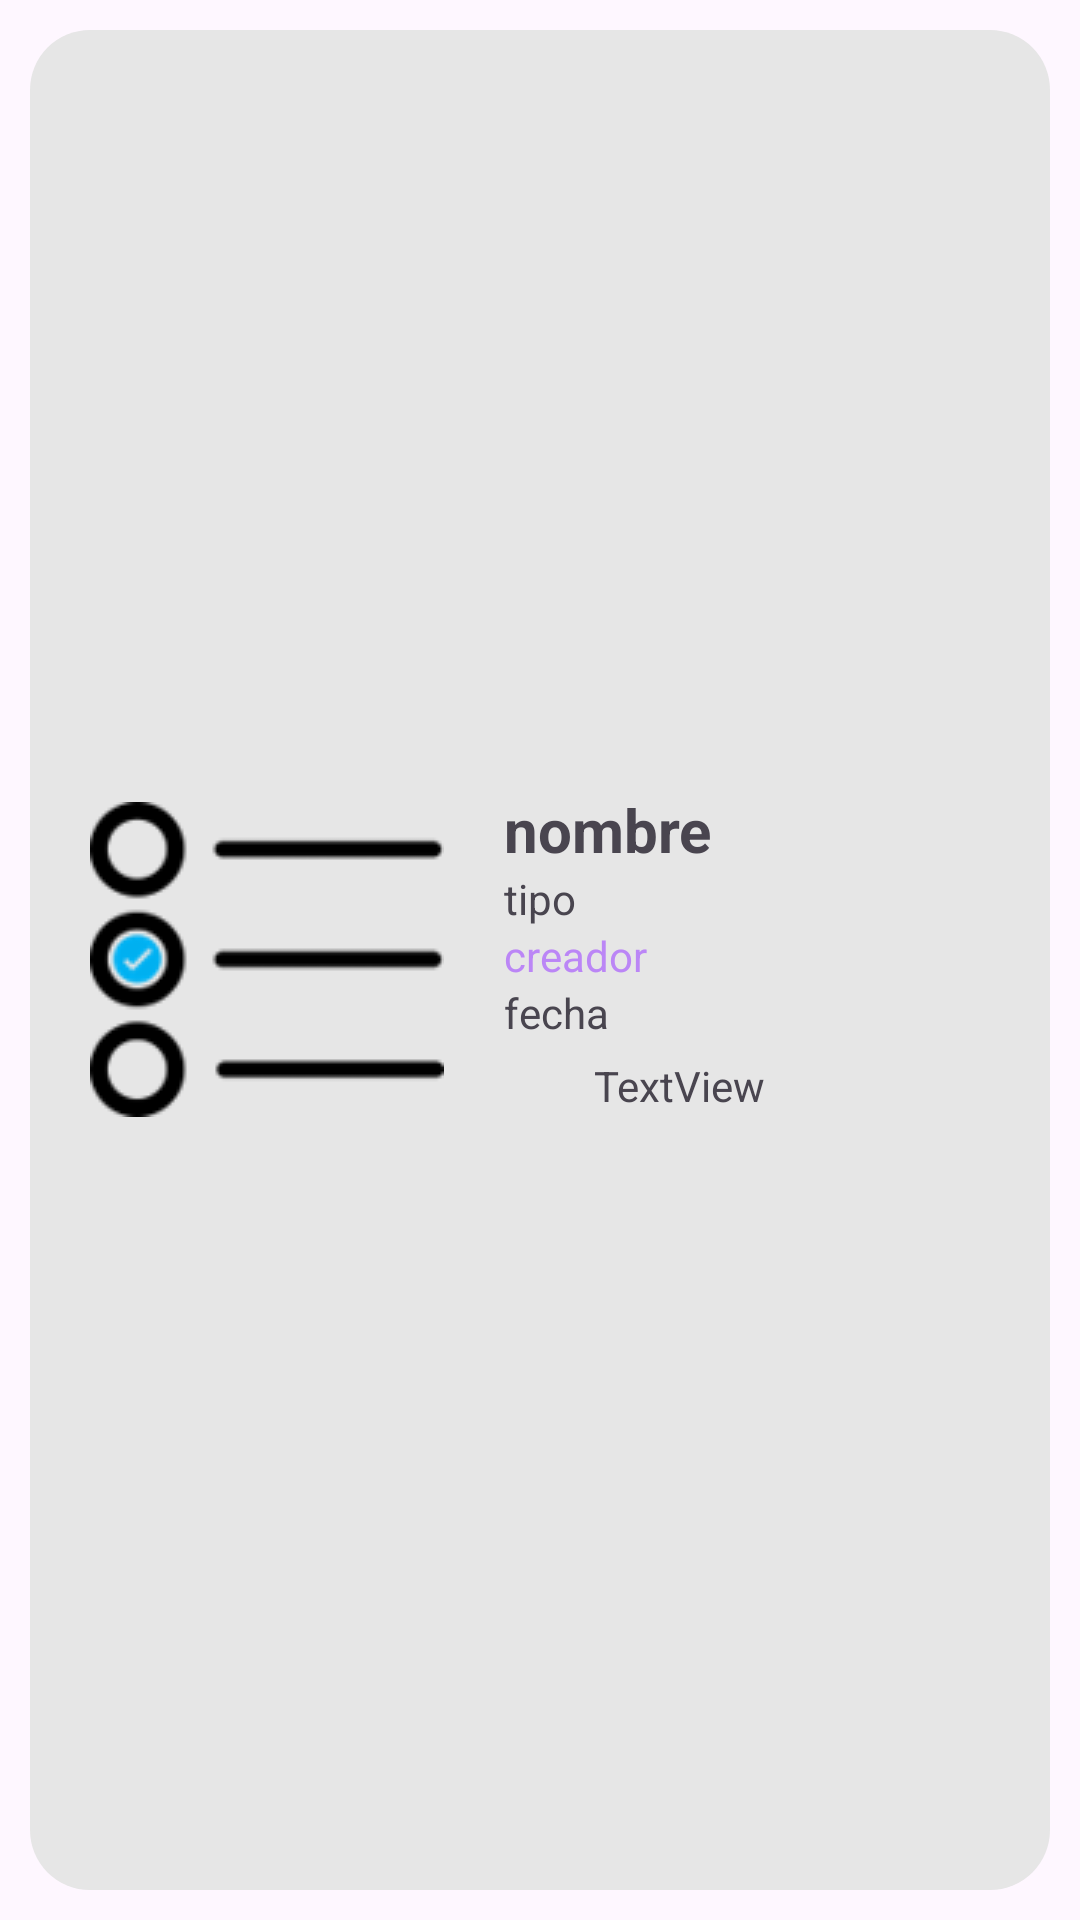

Named icons in this screenshot (1080 x 1920) and their centers, (x=x, y=y):
quest: (x=267, y=959)
